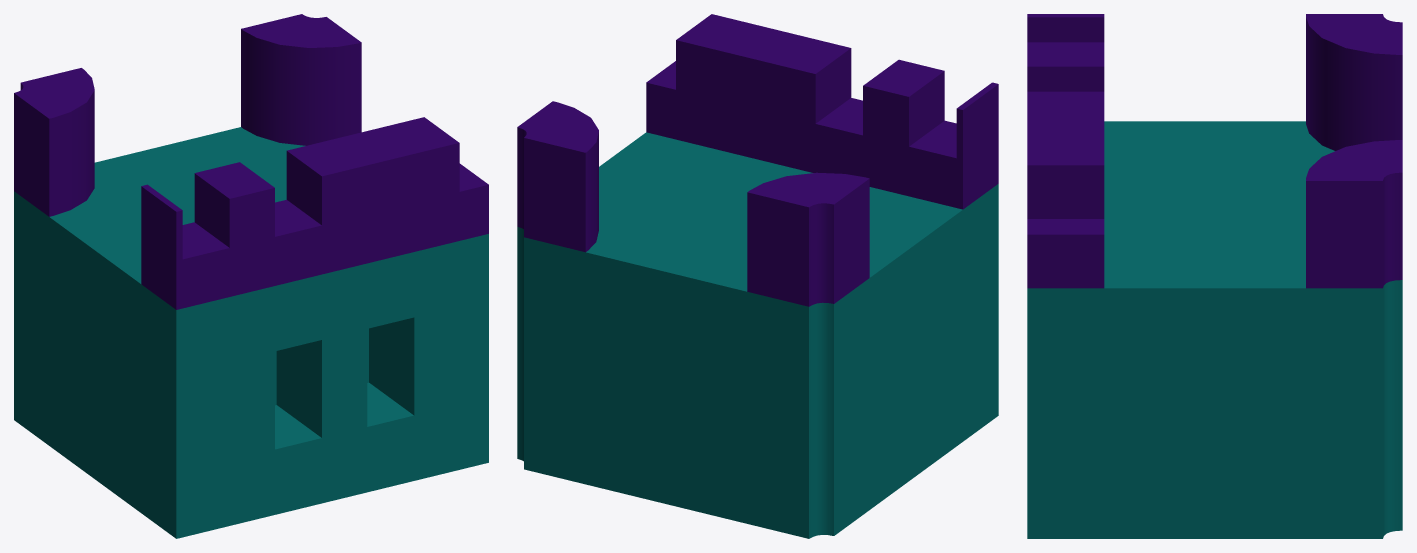
File: Roof_04_C_R.fbx
3 renders of one model, left to right at view 1: azimuth 30°, elevation 25°; view 2: azimuth 150°, elevation 25°; view 3: azimuth 270°, elevation 25°, orthographic. The views are drawn at different scales.
Parts seen in each view (by area): view 1: 3, 1, 4, 2; view 2: 4, 2, 3, 1; view 3: 1, 2, 4, 3.
Boxes of the visible parts, box(x1,y1,x2,y2) form: 3: box(90, 148, 332, 538); 1: box(275, 117, 488, 500); 4: box(14, 68, 196, 475); 2: box(161, 14, 361, 202); 4: box(666, 172, 911, 538); 2: box(517, 101, 747, 503); 3: box(800, 45, 998, 478); 1: box(599, 14, 839, 206); 1: box(1027, 97, 1214, 538); 2: box(1215, 140, 1402, 538); 4: box(1215, 14, 1402, 204); 3: box(1027, 14, 1214, 204).
Bounding box in the file's own units: 200 × 200 × 190.
